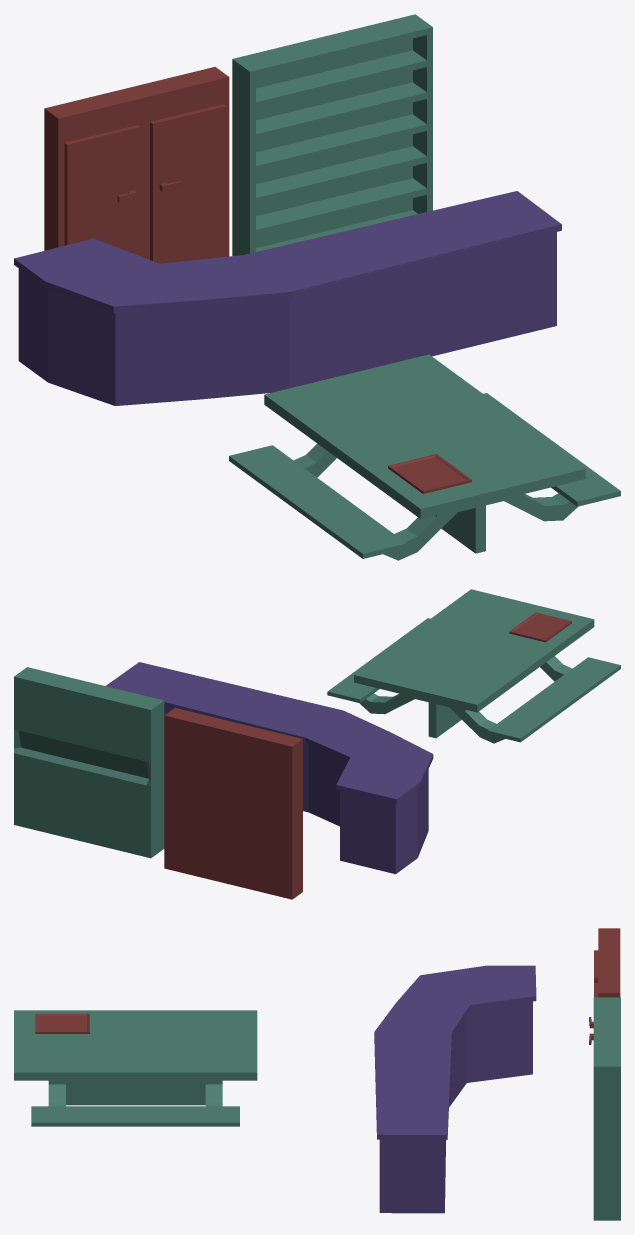
File: Cafeteria Furniture.obj
3 renders of one model, top to bottom at view 1: azimuth 30°, elevation 25°; view 2: azimuth 150°, elevation 25°; view 3: azimuth 270°, elevation 25°, orthographic. The views are drawn at different scales.
Visible parts, largest first — view 1: Food_Bar, Food_Shelves, Cafeteria_Table, Fridge, Food_Tray; view 2: Food_Shelves, Food_Bar, Fridge, Cafeteria_Table, Food_Tray; view 3: Food_Bar, Cafeteria_Table, Food_Shelves, Fridge, Food_Tray.
Part boxes in pixels (x1,y1,x2,y2): Food_Bar: [14, 191, 561, 405]; Food_Shelves: [232, 14, 432, 255]; Cafeteria_Table: [229, 354, 620, 560]; Fridge: [44, 67, 229, 263]; Food_Tray: [388, 454, 471, 493]; Food_Shelves: [14, 667, 164, 858]; Food_Bar: [106, 662, 433, 874]; Fridge: [164, 708, 302, 899]; Cafeteria_Table: [327, 589, 620, 743]; Food_Tray: [509, 612, 571, 642]; Food_Bar: [374, 965, 536, 1213]; Cafeteria_Table: [14, 1010, 257, 1126]; Food_Shelves: [593, 997, 620, 1220]; Fridge: [589, 928, 620, 1044]; Food_Tray: [35, 1013, 89, 1033].
Bounding box in the file's own units: 18.69 × 8.12 × 27.69.
